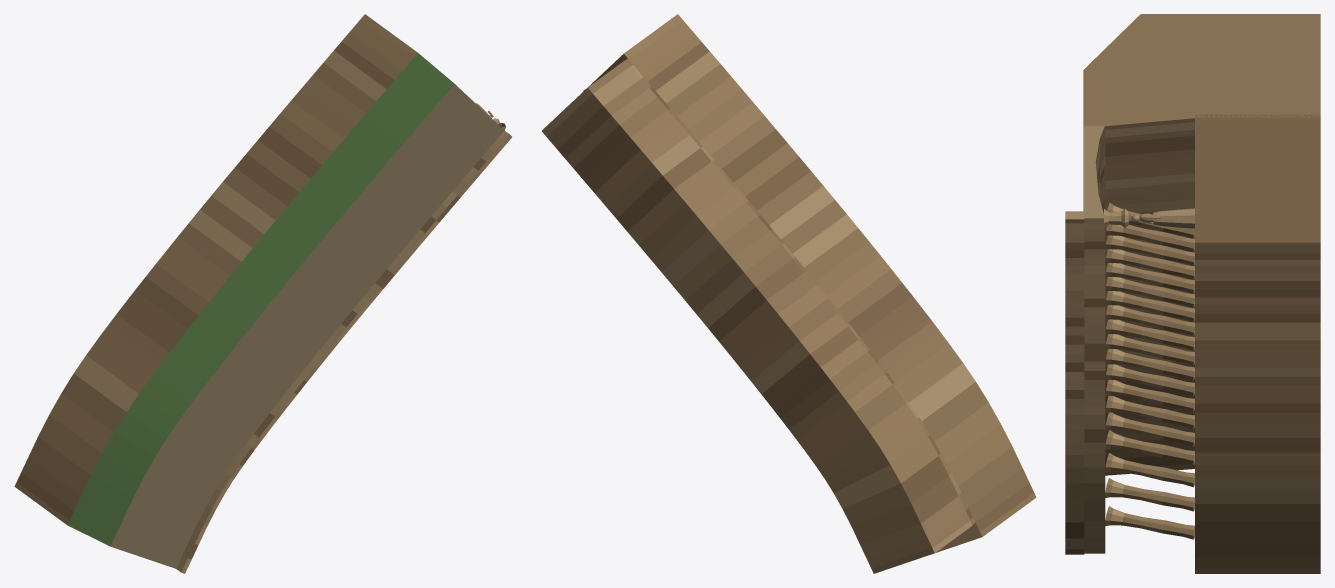
The model's file is portic-bugadera.glb.
3 views of the same model, side by side, from view 1: azimuth 30°, elevation 25°; view 2: azimuth 150°, elevation 25°; view 3: azimuth 270°, elevation 25° (orthographic). The views are drawn at different scales.
Parts seen in each view (by area): view 1: portic-bugadera; view 2: portic-bugadera; view 3: portic-bugadera.
Boxes of the visible parts, left/top/right/bottom form: portic-bugadera: left=14, top=14, right=511, bottom=573; portic-bugadera: left=542, top=14, right=1036, bottom=573; portic-bugadera: left=1065, top=14, right=1320, bottom=573.
Bounding box in the file's own units: 40.44 × 40.25 × 12.2.
